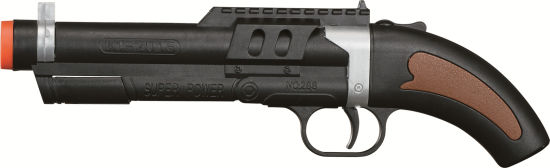Arma Falsa: (3, 5, 550, 164)
